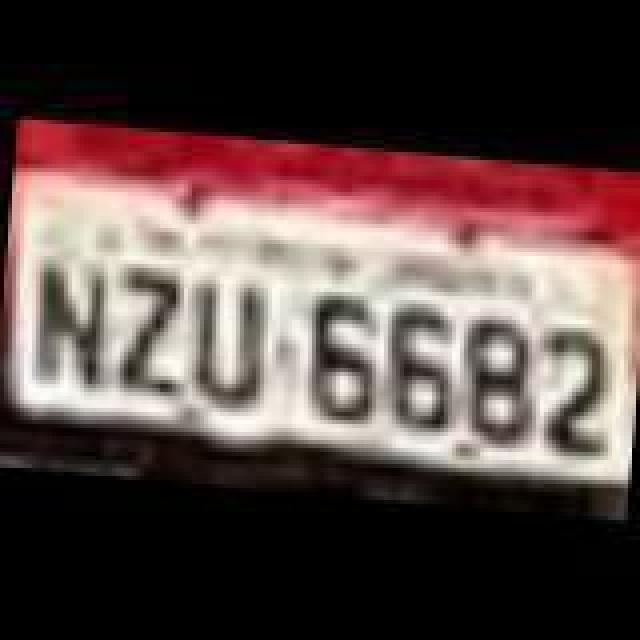2: (530, 320, 622, 464)
6: (374, 296, 466, 440), (300, 288, 388, 432)
8: (458, 308, 542, 444)
N: (26, 254, 118, 394)
U: (180, 266, 276, 406)
Z: (108, 262, 196, 402)
